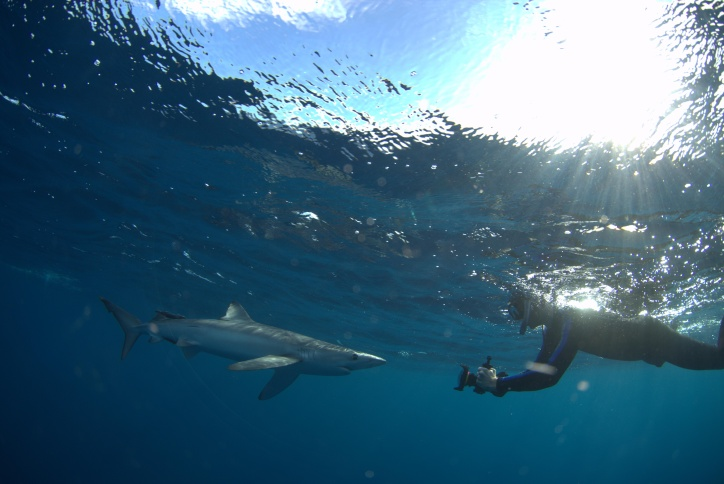Azul: (108, 276, 390, 410)
